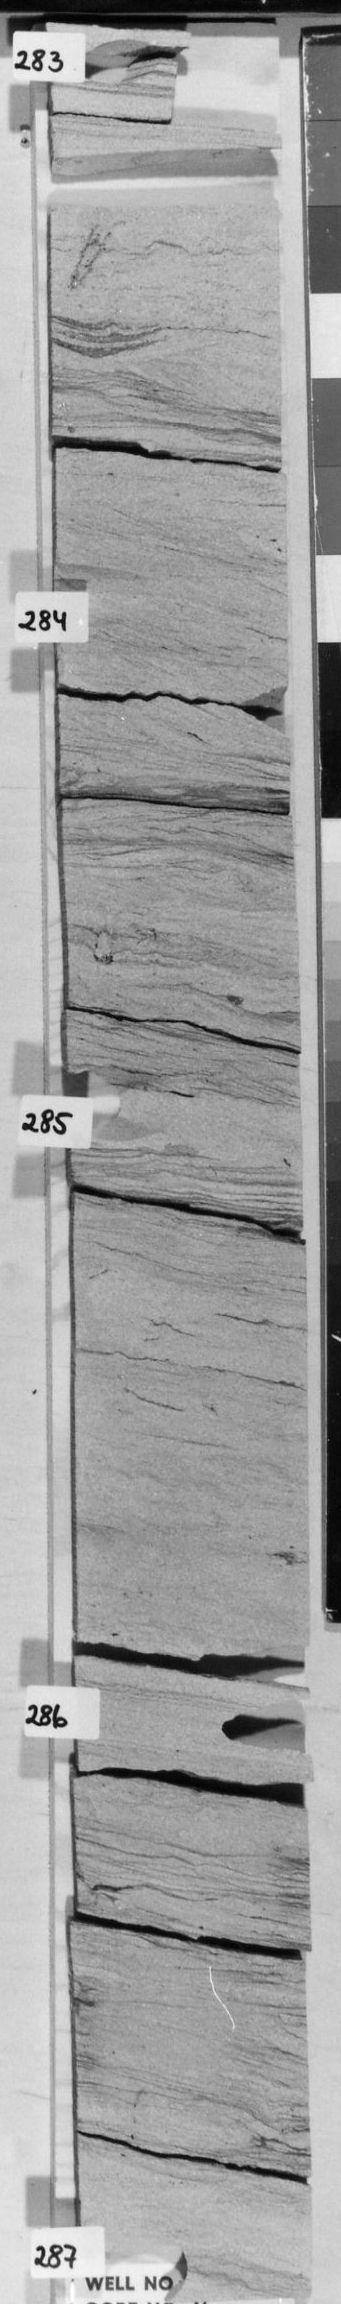hplug: (71, 1061, 190, 1149), (218, 1684, 312, 1765), (96, 2231, 200, 2303), (79, 29, 157, 94)
scal: (50, 141, 276, 222)
vplug: (163, 29, 231, 132)
